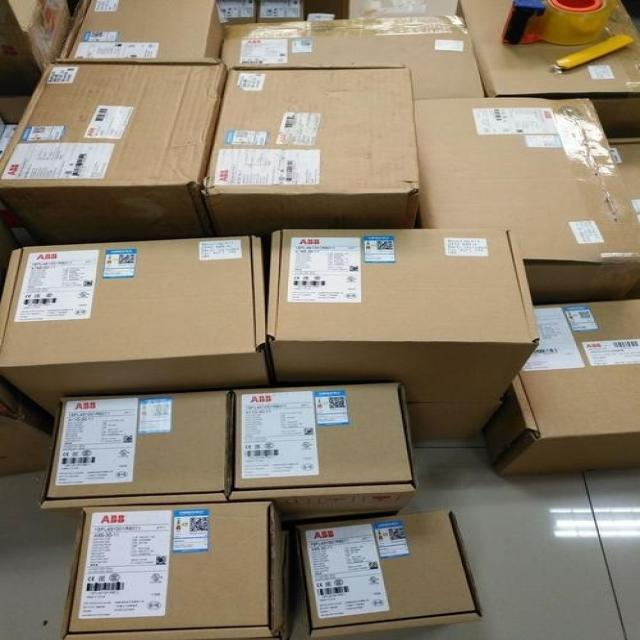box: (266, 226, 539, 440), (0, 235, 274, 423), (0, 57, 227, 245), (413, 97, 609, 305), (195, 67, 419, 235), (61, 502, 300, 636), (224, 382, 415, 525), (485, 299, 639, 475), (461, 0, 639, 137), (300, 507, 483, 638), (218, 13, 489, 98), (40, 389, 235, 506), (555, 94, 639, 300), (54, 0, 227, 64), (0, 2, 72, 93), (0, 377, 59, 476), (606, 132, 639, 250), (348, 0, 459, 19), (1, 2, 45, 35), (215, 0, 258, 27), (256, 2, 303, 25), (301, 1, 349, 20)
